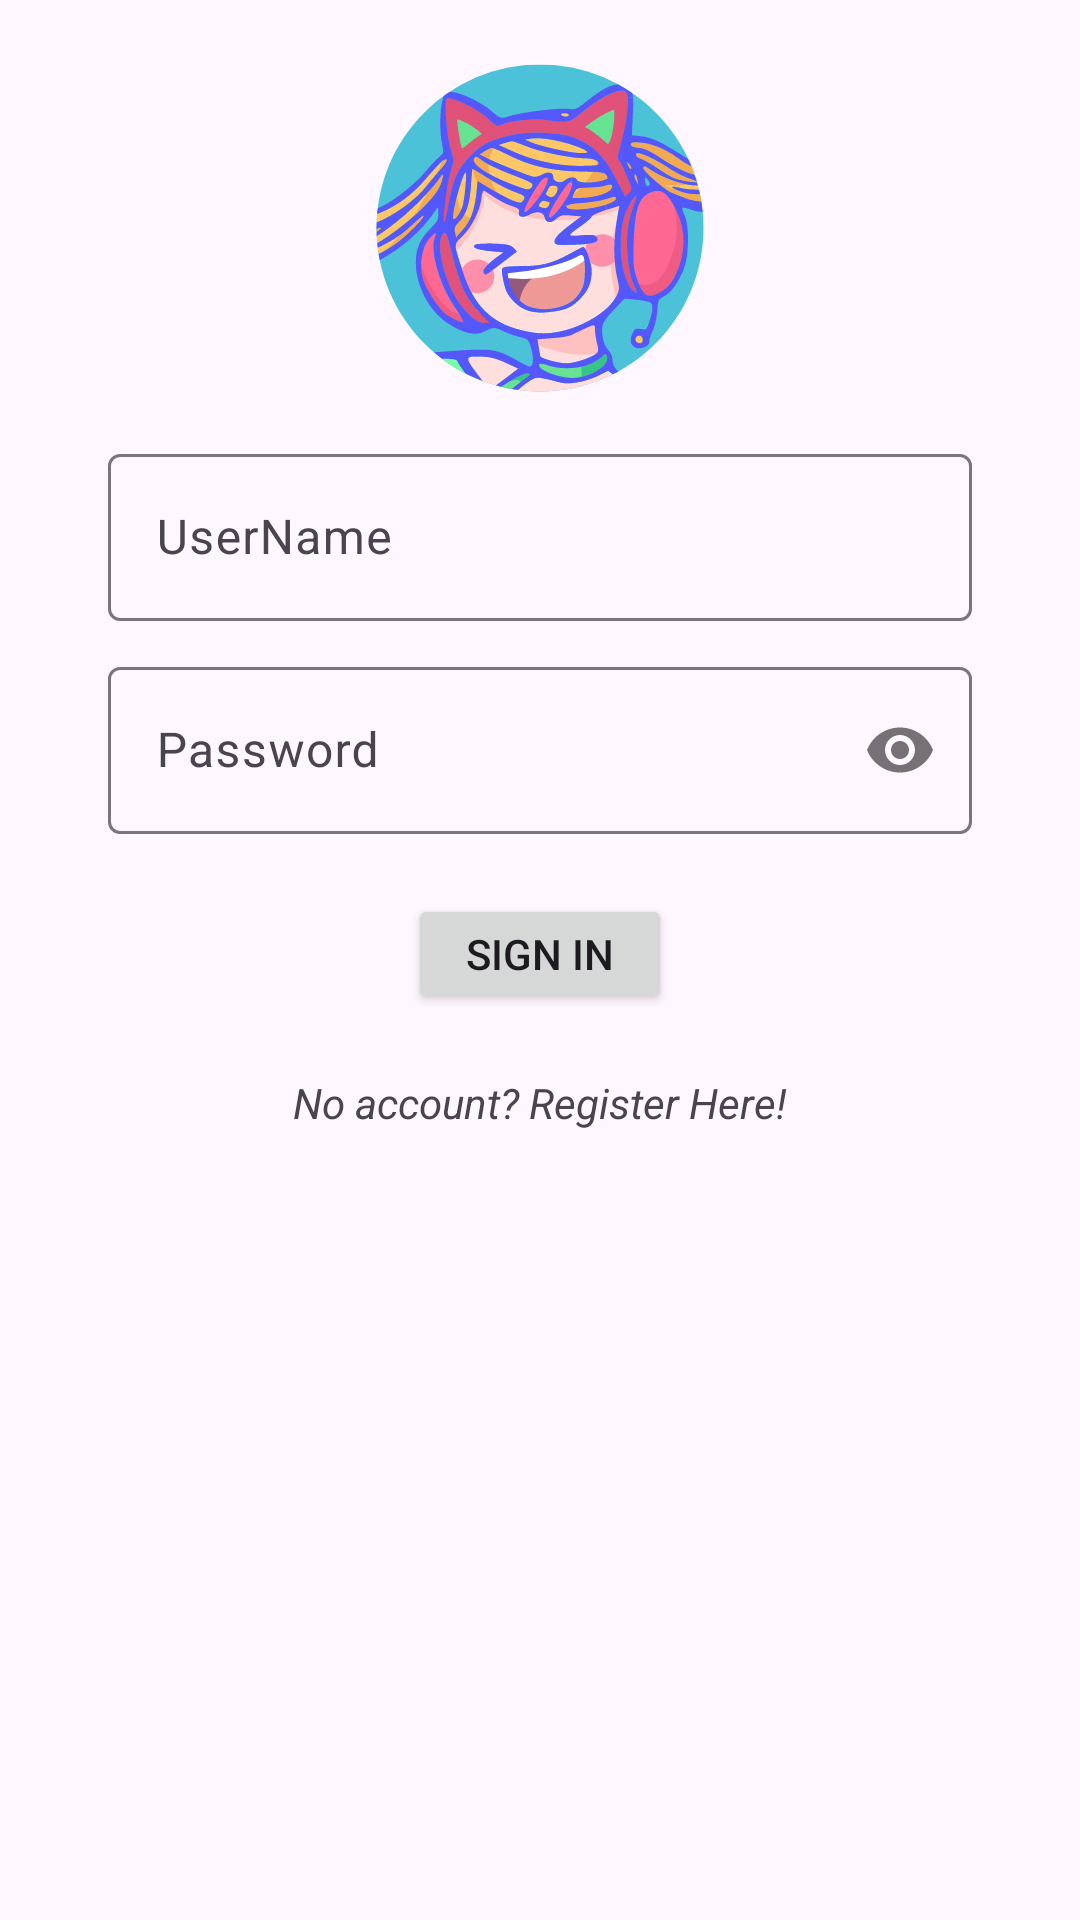

Screen size 1080 x 1920. Icon name, then its box in pixels as rect(x1, y1, x2, y2):
girl: rect(376, 64, 704, 392)
